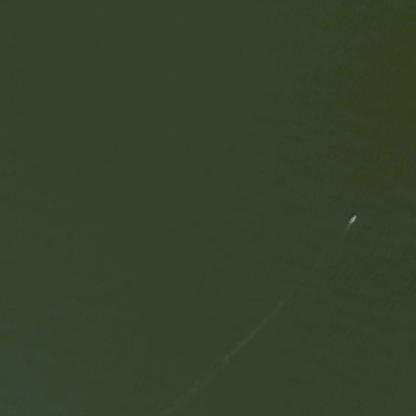ship: (340, 209, 364, 228)
